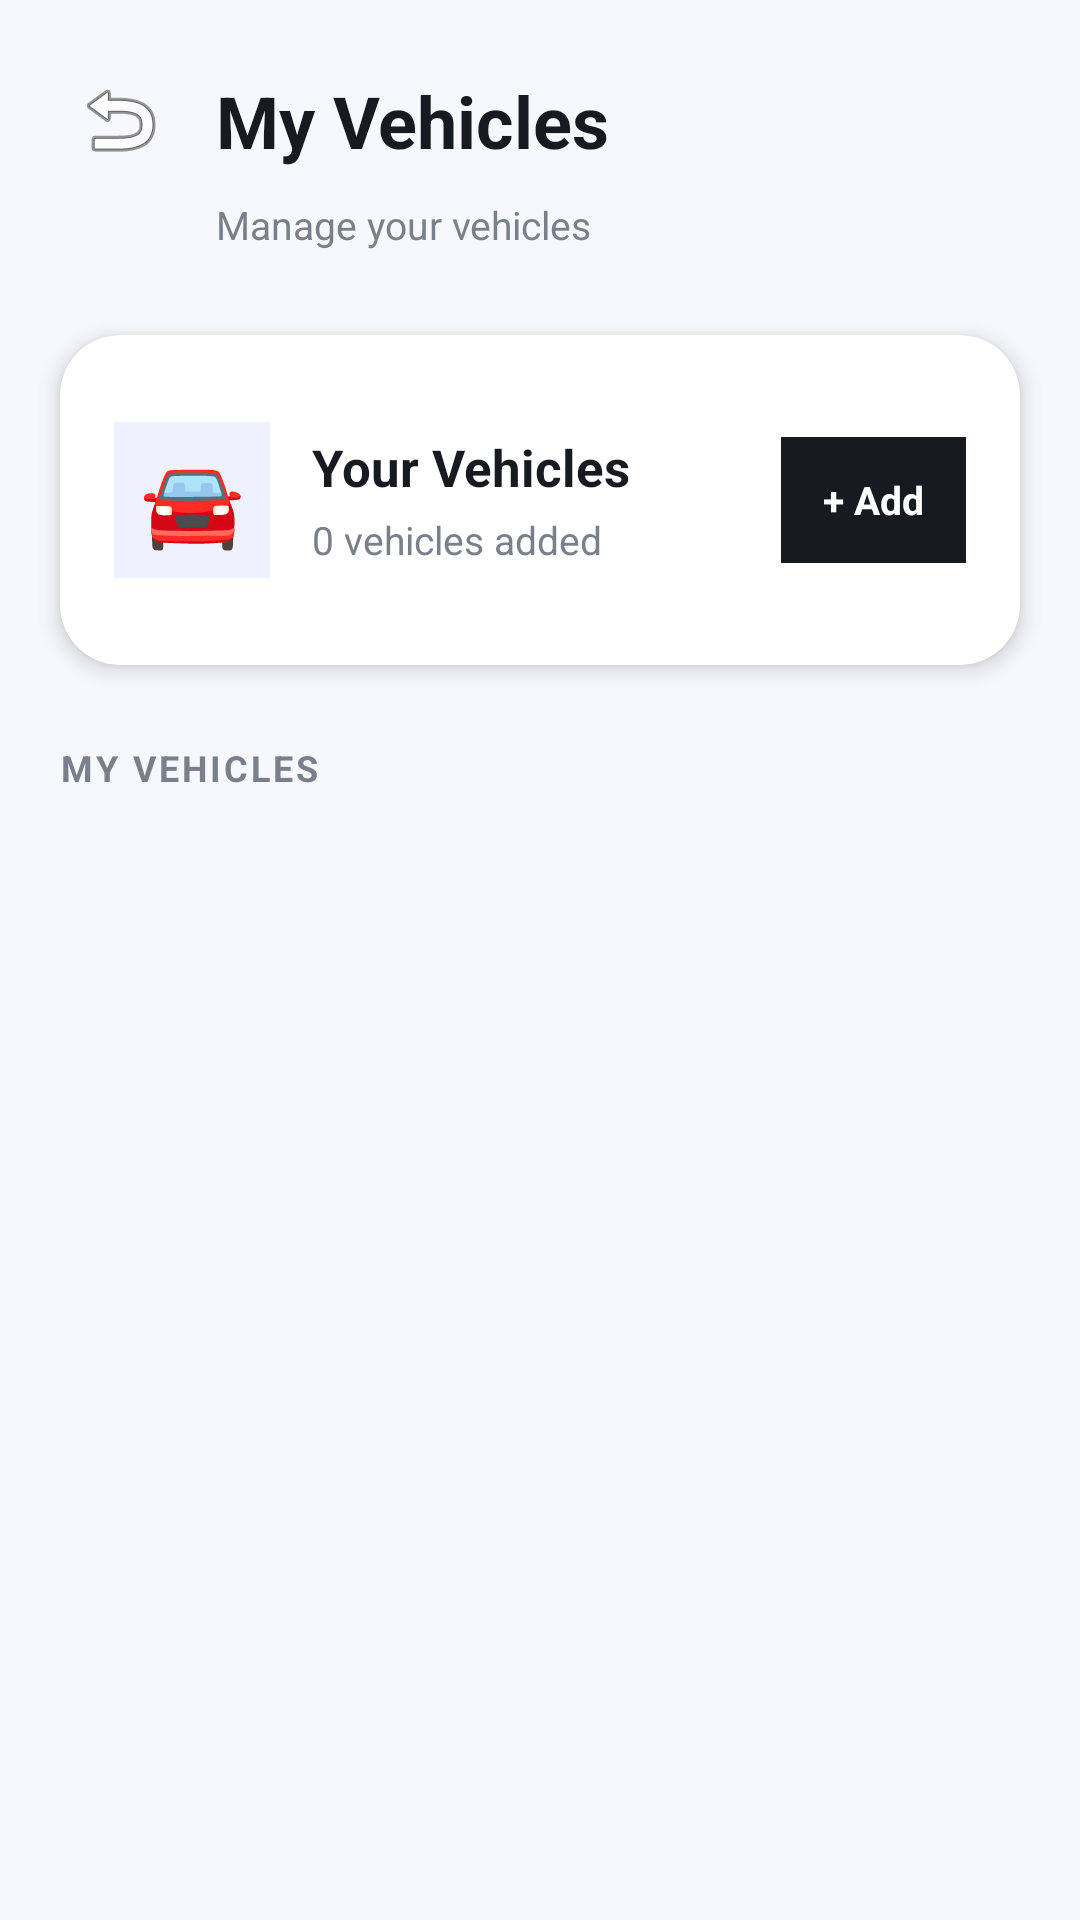

Named icons in this screenshot (1080px x 1920px) and their centers, [x,y]:
Back: [121,120]
